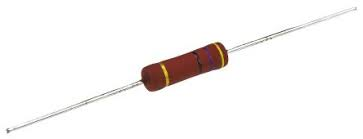resistor: (136, 36, 244, 109)
